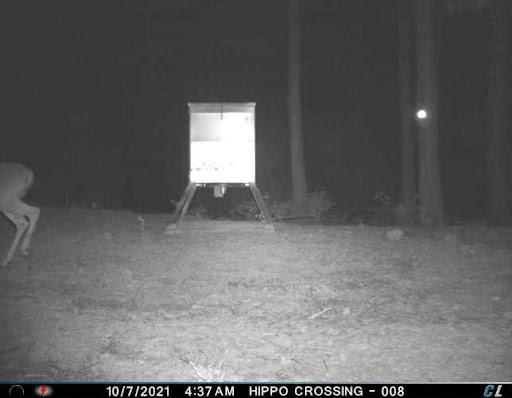Deer: (0, 159, 44, 278)
